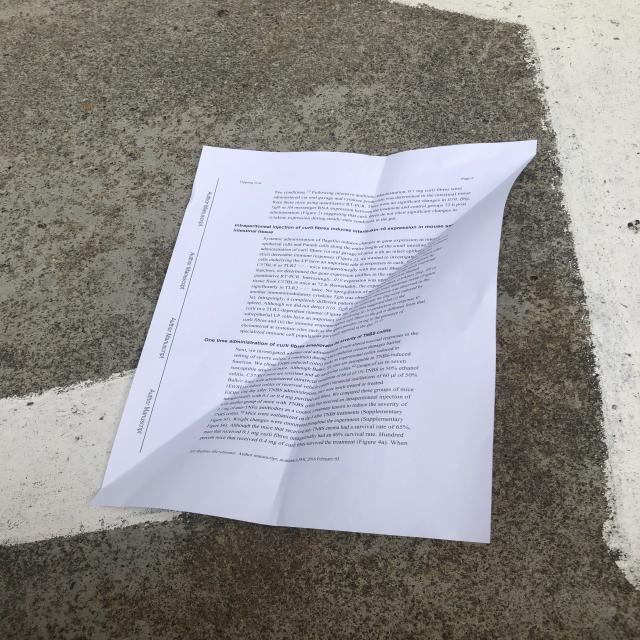kertas: (93, 94, 538, 552)
